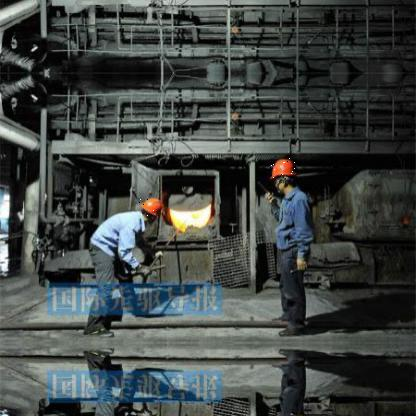safetyhelmet: (270, 156, 298, 184), (138, 196, 163, 218)
